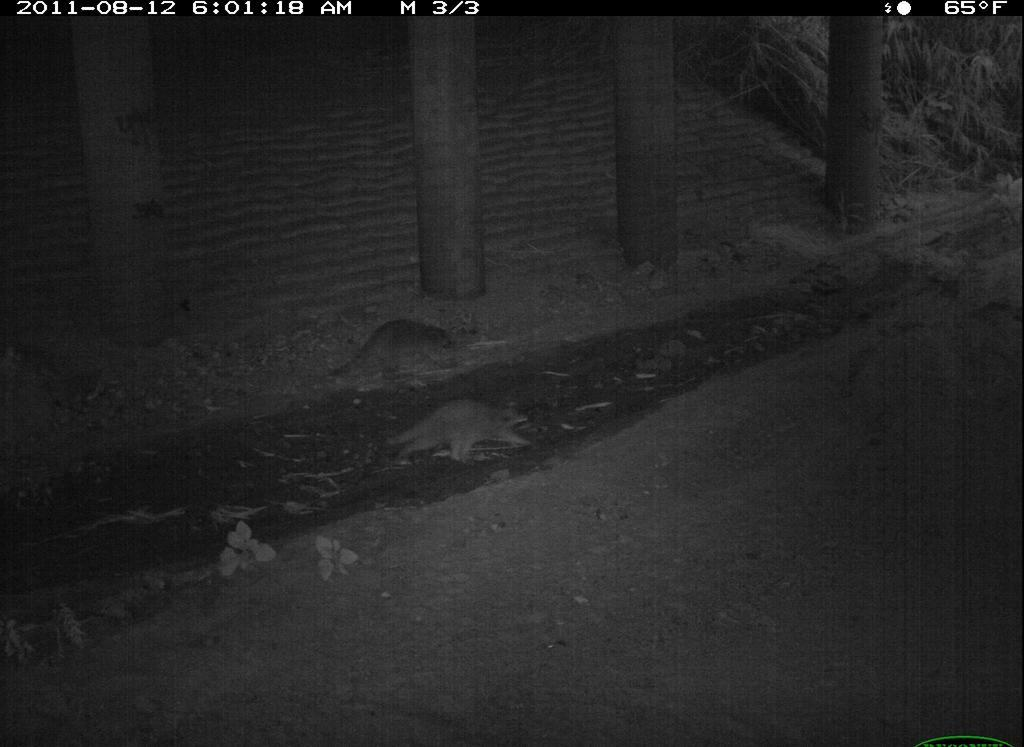raccoon: (641, 628, 930, 747)
